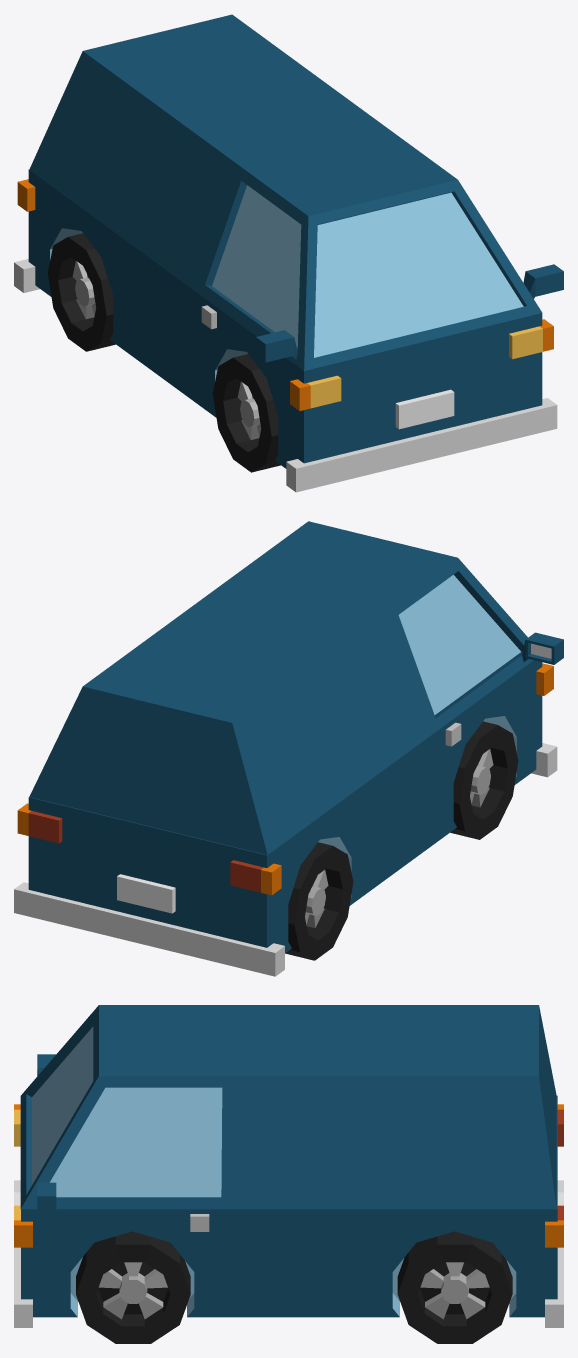
The model's file is van.glb.
The picture shows the model from 3 angles, top to bottom: view 1: azimuth 30°, elevation 25°; view 2: azimuth 150°, elevation 25°; view 3: azimuth 270°, elevation 25°; orthographic projection. The views are drawn at different scales.
Parts seen in each view (by area): view 1: Vehicle.004_Material_0; view 2: Vehicle.004_Material_0; view 3: Vehicle.004_Material_0.
Boxes of the visible parts, x1,y1,x2,y2 form: Vehicle.004_Material_0: (14,14,563,492); Vehicle.004_Material_0: (14,521,563,976); Vehicle.004_Material_0: (14,1005,563,1343).
Size of the model in its own units: 2.5 by 2.01 by 4.1.
Materials: 1 (1 with a texture image).
